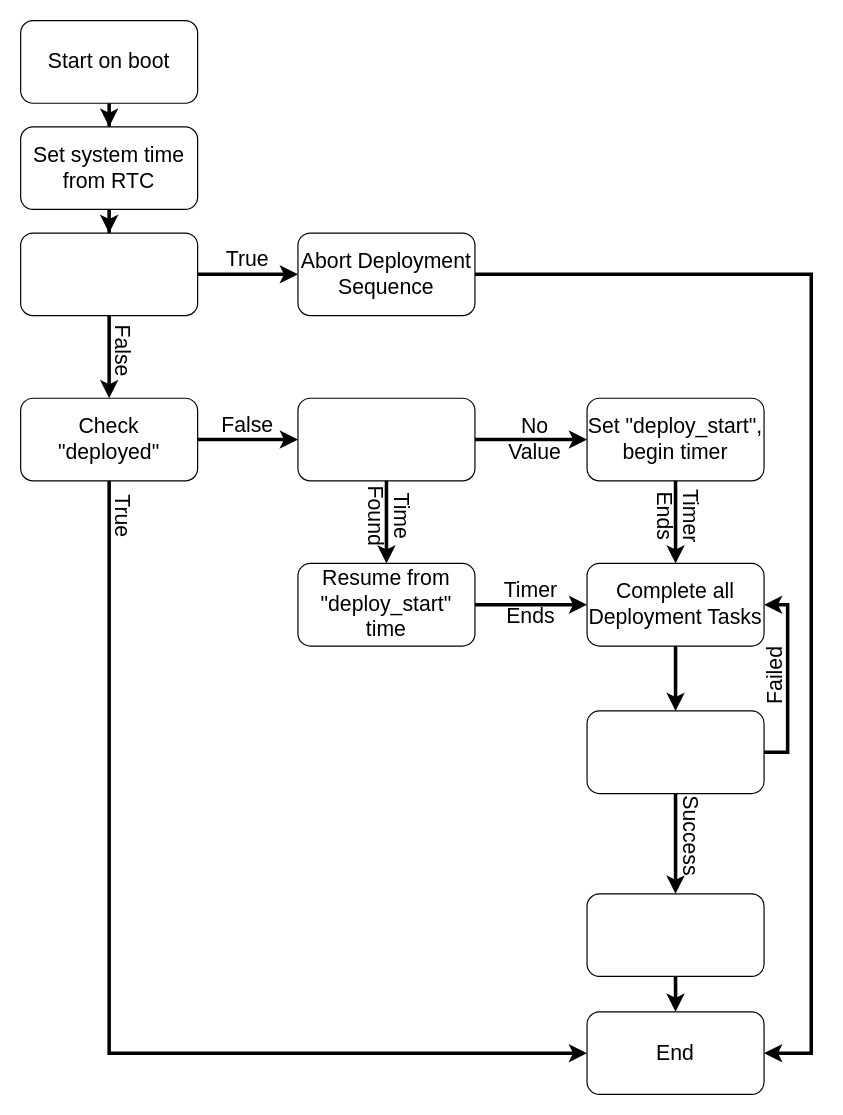
The diagram is 843 pixels wide and 1115 high, and some of its shapes have lost their labels. Here are the shapes that lost their labels. From the top down, the box of each, then its label:
(19, 232, 198, 316): Check "remove_before_flight"
(297, 397, 475, 481): Check "deploy_start"
(586, 710, 764, 794): Check for successful deployment
(586, 893, 764, 976): Set "deployed" to True
